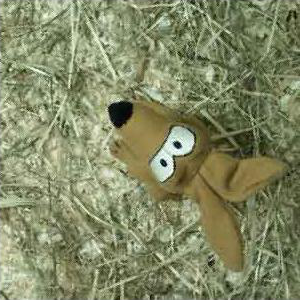dog: (106, 99, 286, 273)
